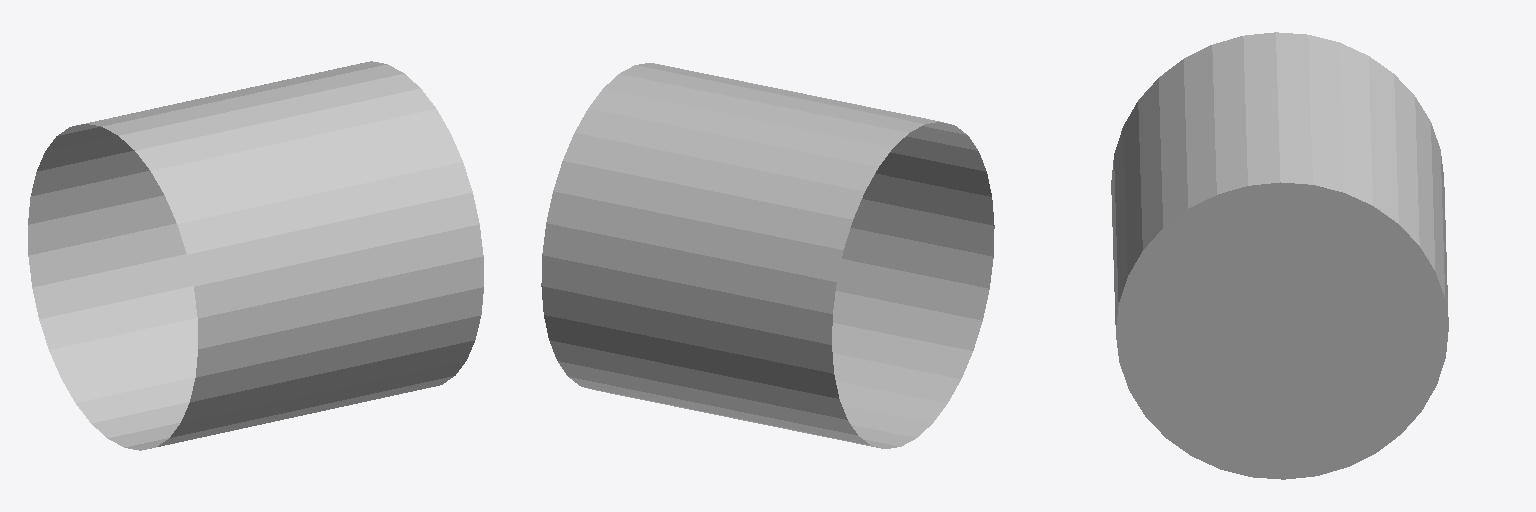
File: cylinderblend.obj
3 views of the same model, side by side, from view 1: azimuth 30°, elevation 25°; view 2: azimuth 150°, elevation 25°; view 3: azimuth 270°, elevation 25° (orthographic).
Visible parts, largest first — view 1: Cylinder; view 2: Cylinder; view 3: Cylinder.
Part boxes in pixels (bbox=[...]): Cylinder: bbox=[28, 61, 483, 450]; Cylinder: bbox=[541, 63, 994, 448]; Cylinder: bbox=[1111, 32, 1448, 479].
Bounding box in the file's own units: 0.1547 × 0.1543 × 0.1517.